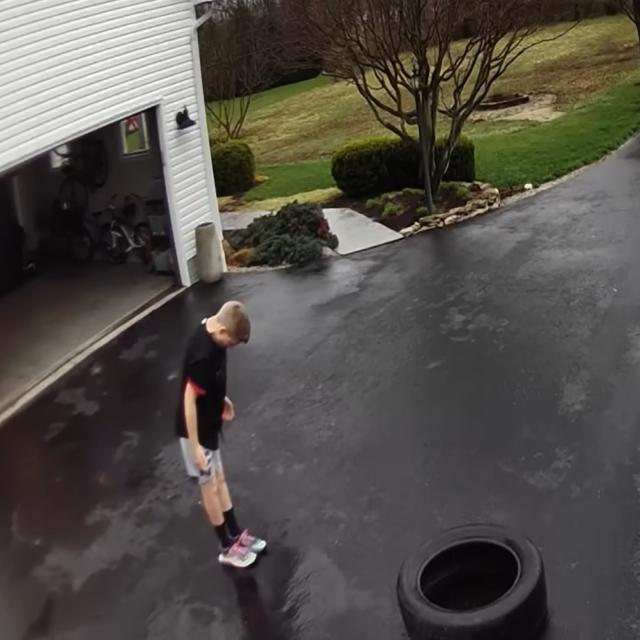standing: (176, 300, 266, 568)
